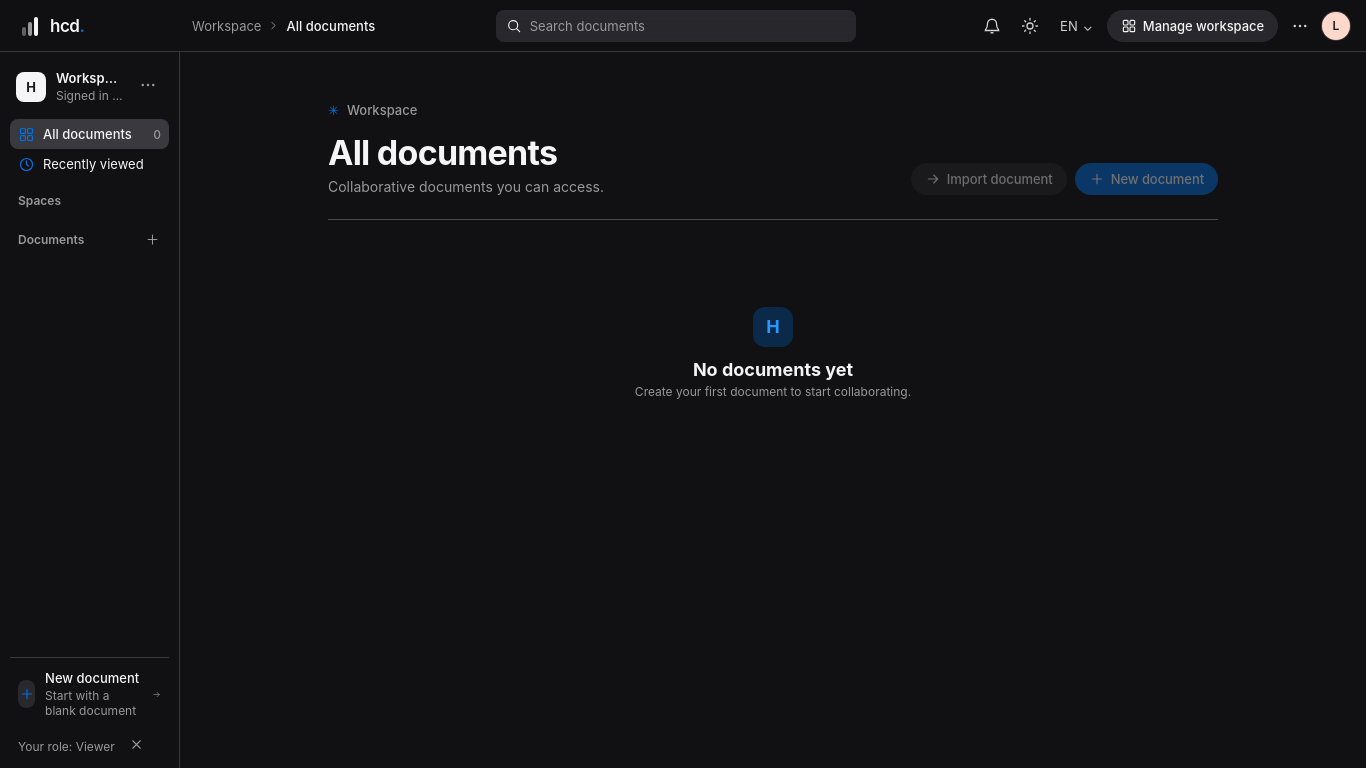
Test: workspace theme preference › C4 remembers an explicit theme choice after a reload and keeps it when the system changes
Click the button named "Toggle appearance" at (1030, 26), box [1014, 10, 1046, 42]
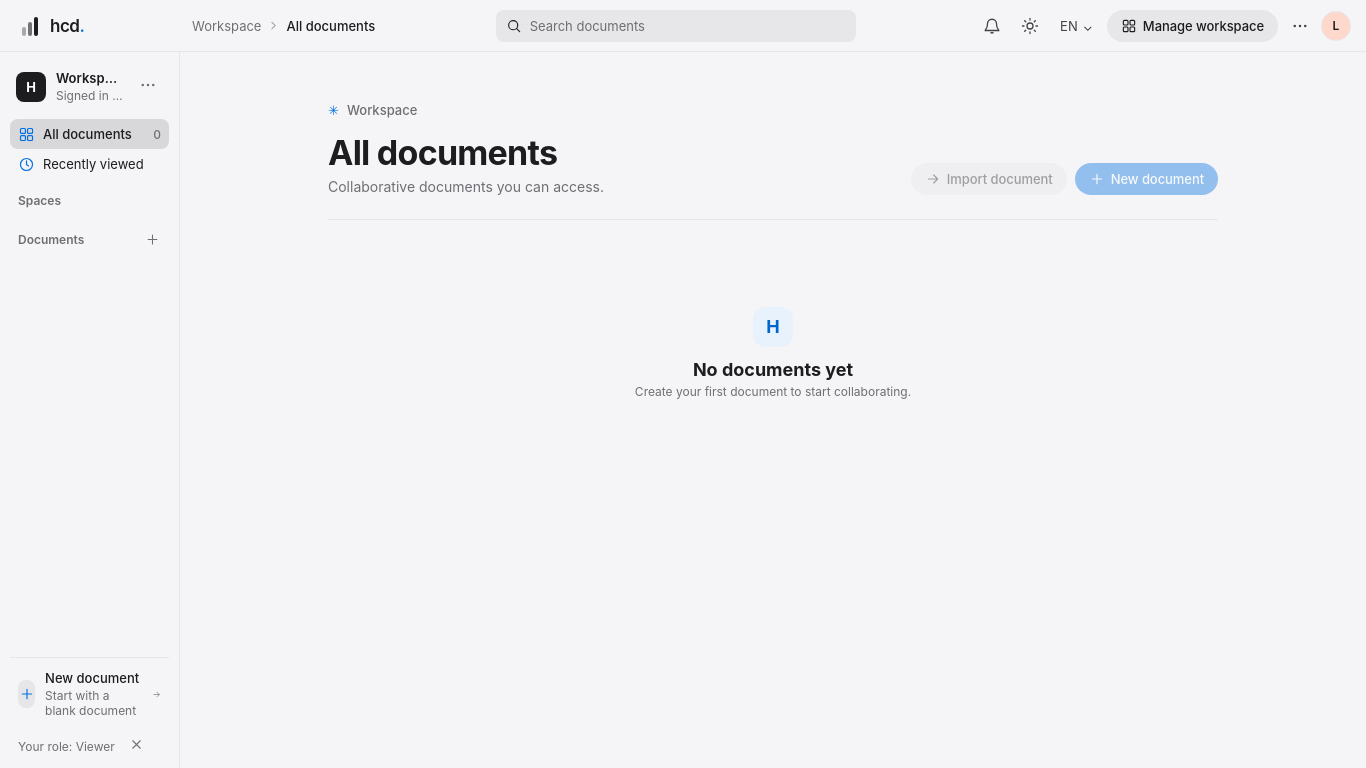
Result: the element with class "dark" is gone
